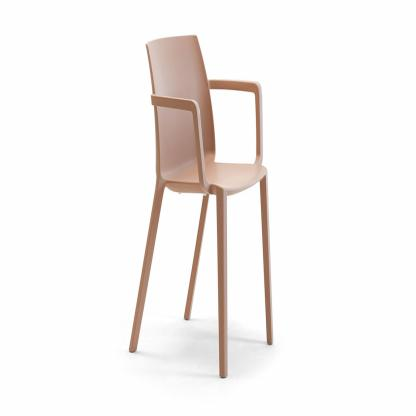chair: (124, 28, 283, 384)
